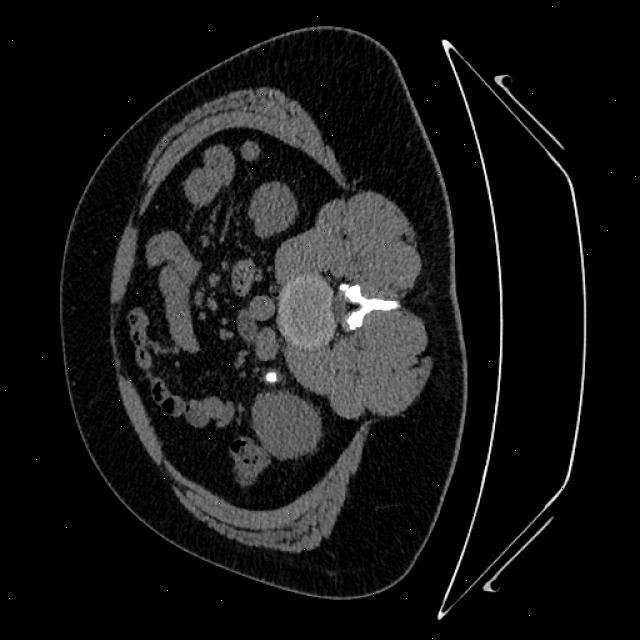kidneystone: (266, 371, 277, 381)
